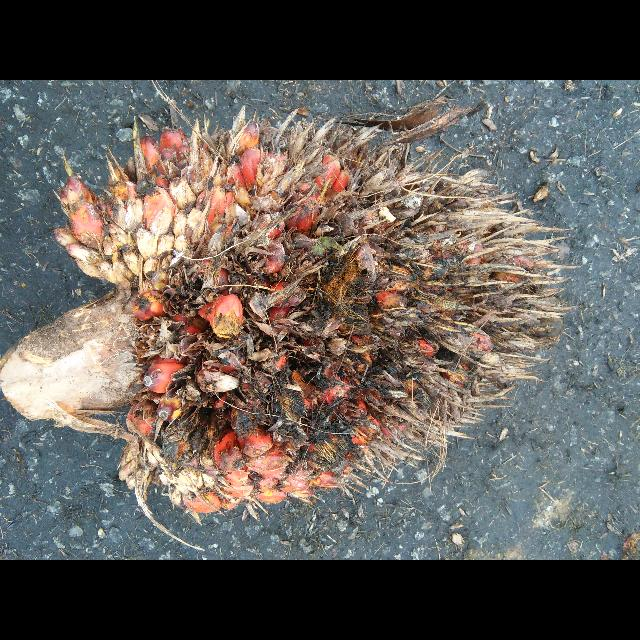Overripe: (46, 121, 565, 521)
